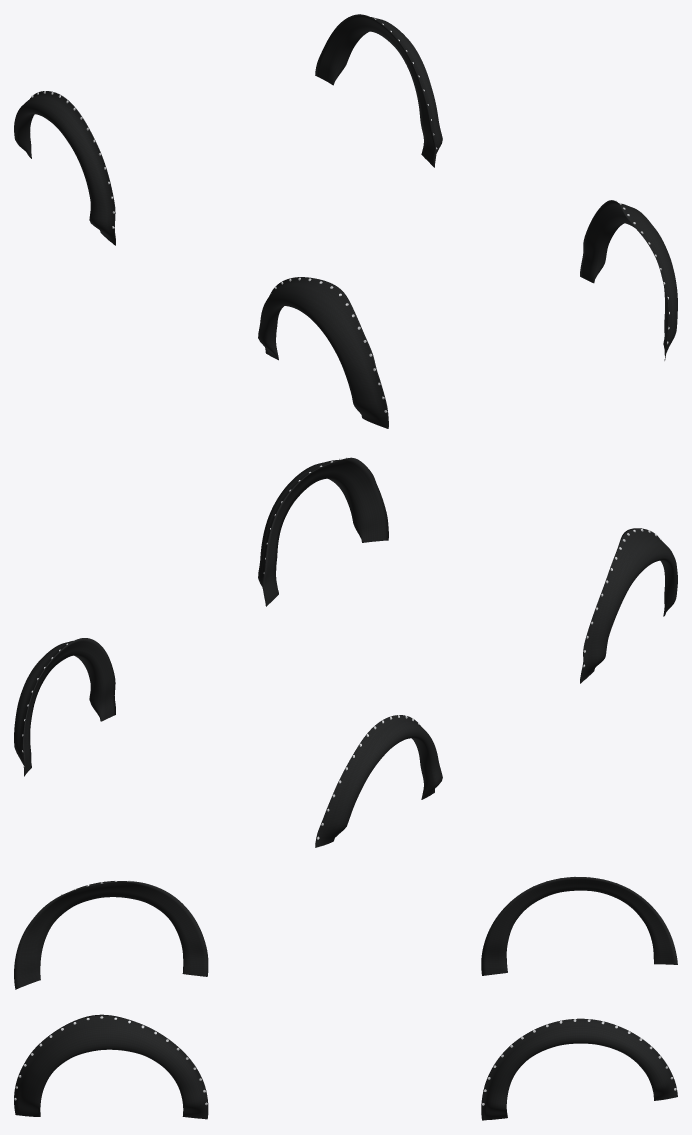
The model's file is WB02_widebody_fenders_carbon.glb.
3 views of the same model, one above another, from view 1: azimuth 30°, elevation 25°; view 2: azimuth 150°, elevation 25°; view 3: azimuth 270°, elevation 25° (orthographic). The views are drawn at different scales.
Visible parts, largest first — view 1: MOD_NB_WB02_front_R, MOD_NB_WB02_rear_R, MOD_NB_WB02_rear_L, MOD_NB_WB02_front_L; view 2: MOD_NB_WB02_front_L, MOD_NB_WB02_rear_R, MOD_NB_WB02_front_R, MOD_NB_WB02_rear_L; view 3: MOD_NB_WB02_front_L, MOD_NB_WB02_rear_L, MOD_NB_WB02_front_R, MOD_NB_WB02_rear_R.
Boxes of the visible parts, x1,y1,x2,y2 form: MOD_NB_WB02_front_R: (258, 277, 388, 428); MOD_NB_WB02_rear_R: (14, 91, 115, 245); MOD_NB_WB02_rear_L: (315, 14, 442, 167); MOD_NB_WB02_front_L: (580, 200, 677, 360); MOD_NB_WB02_front_L: (258, 457, 388, 606); MOD_NB_WB02_rear_R: (315, 715, 442, 847); MOD_NB_WB02_front_R: (580, 528, 677, 683); MOD_NB_WB02_rear_L: (14, 638, 115, 776); MOD_NB_WB02_front_L: (14, 1014, 208, 1119); MOD_NB_WB02_rear_L: (481, 1018, 677, 1120); MOD_NB_WB02_front_R: (14, 881, 208, 989); MOD_NB_WB02_rear_R: (481, 877, 677, 975).
Bounding box in the file's own units: 1.84 × 0.5648 × 3.25.
2 materials, 1 textured.
